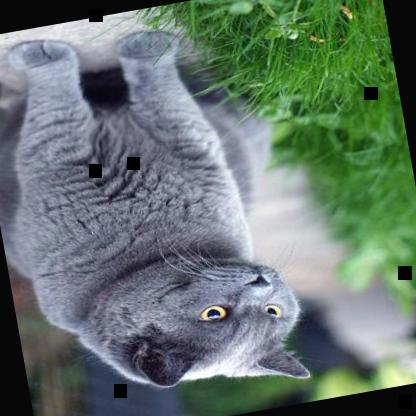cat: (0, 1, 315, 415)
